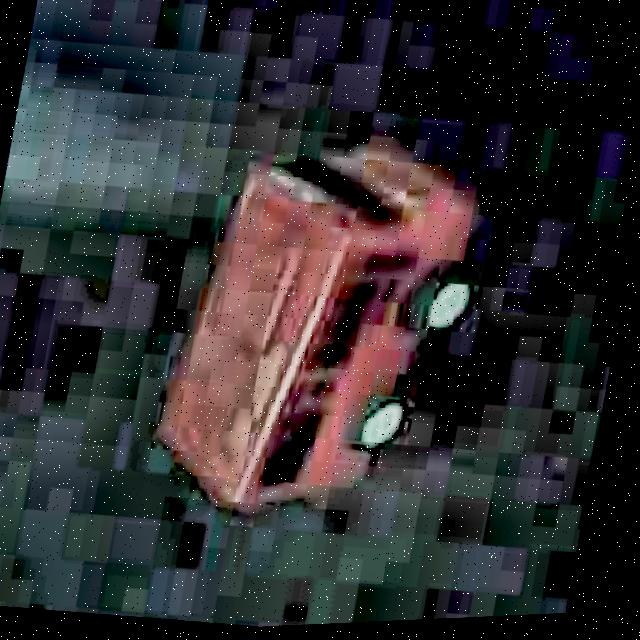bus: (128, 106, 513, 541)
